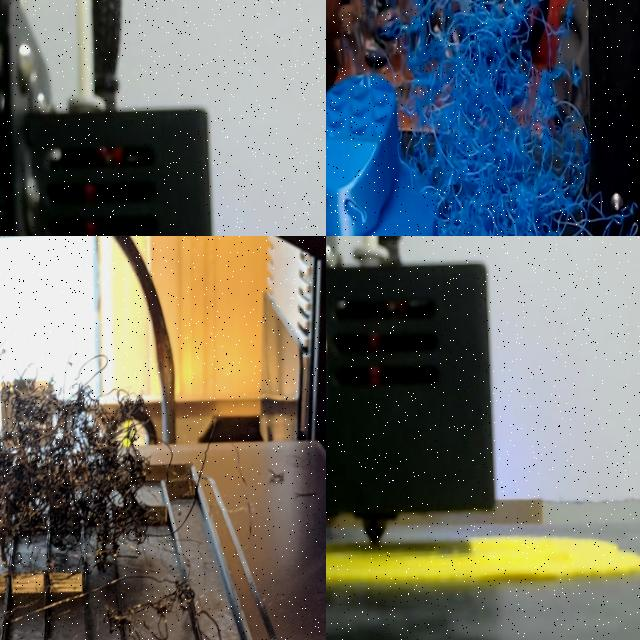spaghetti: (376, 0, 640, 236), (0, 350, 201, 575), (94, 574, 240, 640)
